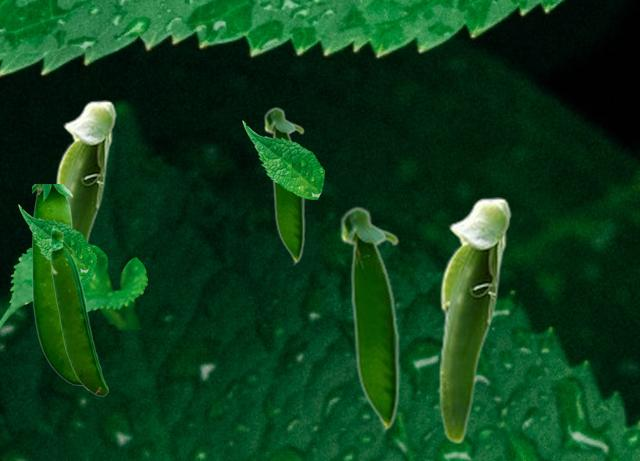pea: (438, 197, 511, 443), (339, 205, 399, 433), (32, 184, 82, 386), (49, 227, 107, 395), (54, 100, 116, 243), (263, 106, 304, 265)
